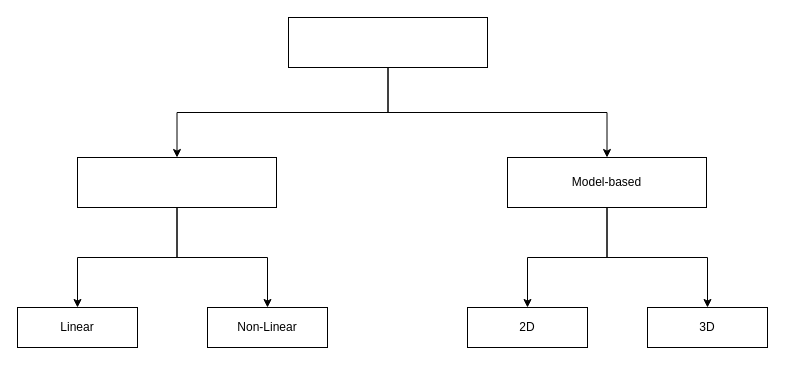
The diagram is 785 pixels wide and 365 high, and some of its shapes have lost their labels. Each missing label, with the box of its shape:
Appearance-Based: (76, 156, 276, 208)
Gaze-estimation methods: (288, 16, 488, 68)
